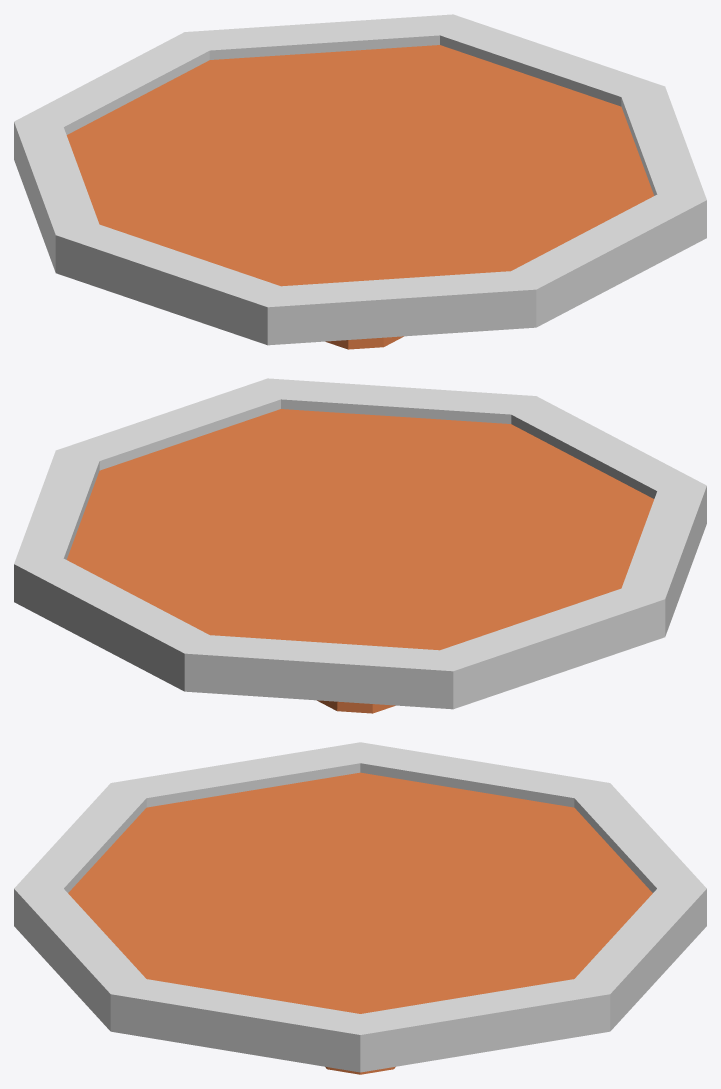
Rendered from RestaurentTable.fbx.
3 renders of one model, top to bottom at view 1: azimuth 30°, elevation 25°; view 2: azimuth 150°, elevation 25°; view 3: azimuth 270°, elevation 25°, orthographic.
Parts seen in each view (by area): view 1: Plane; view 2: Plane; view 3: Plane.
Part boxes in pixels (bbox=[...]): Plane: bbox=[14, 14, 706, 349]; Plane: bbox=[14, 378, 706, 713]; Plane: bbox=[14, 742, 706, 1074].
Bounding box in the file's own units: 824 × 219 × 824.
